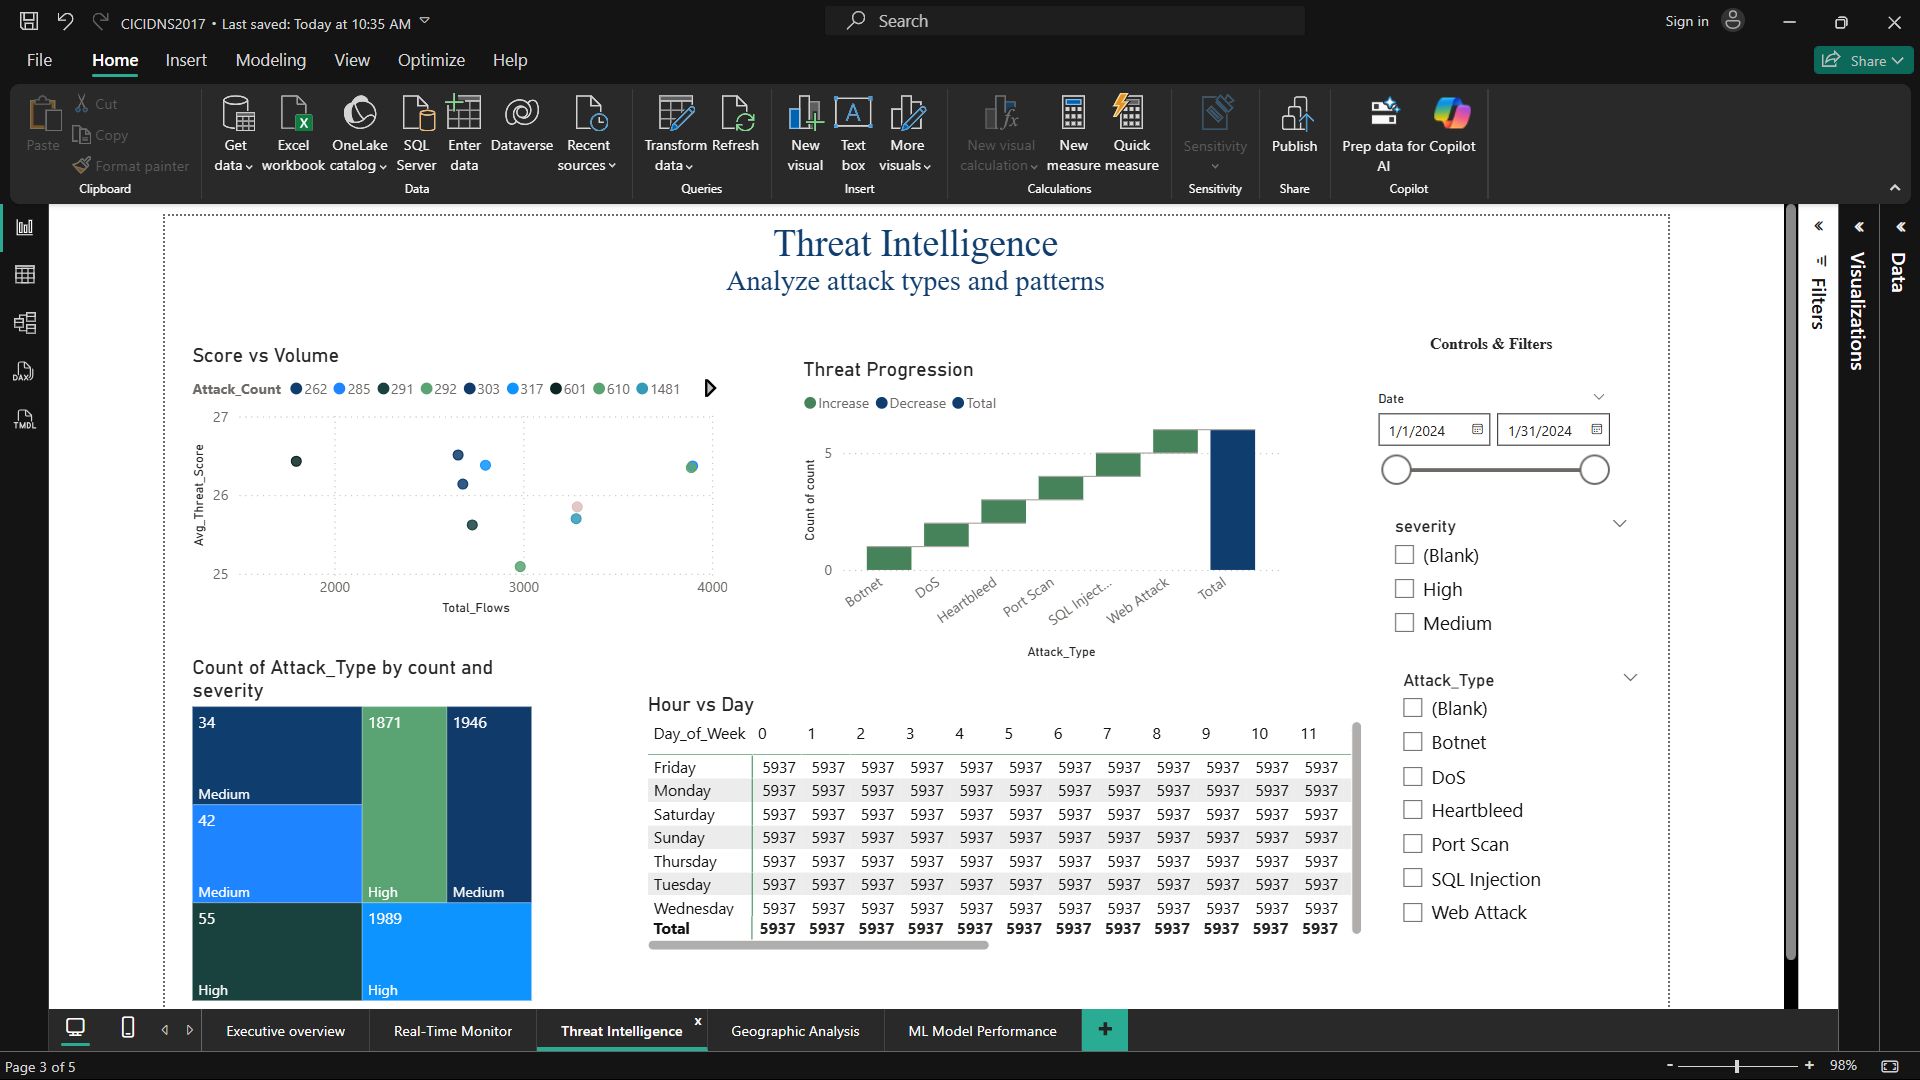

The page's visual inventory and layout, read from the dashboard file:
{"tool":"powerbi","page":{"name":"Threat Intelligence","canvas":[1280,720],"ordinal":2},"visuals":[{"type":"textbox","box":[0,413,281,281],"z":1},{"type":"textbox","box":[0,0,1278.5,91.5],"z":2},{"type":"scatterChart","title":"Score vs Volume","fields":{"X":["geographic_summary.Total_Flows"],"Y":["geographic_summary.Avg_Threat_Score"],"Series":["geographic_summary.Attack_Count"]},"box":[18.6,108.5,465.6,236.7],"z":3},{"type":"pivotTable","title":"Hour vs Day","fields":{"Rows":["network_traffic_data.Day_of_Week"],"Columns":["network_traffic_data.Hour"],"Values":["Sum(temporal_patterns.Attack_Count)"]},"box":[406.1,406.1,618.4,224.5],"z":4},{"type":"slicer","fields":{"Values":["threat_intelligence.Attack_Type"]},"box":[1041.8,381.6,225.5,232.7],"z":6},{"type":"slicer","fields":{"Values":["threat_intelligence.severity"]},"box":[1034.7,251,223.5,116.3],"z":7},{"type":"slicer","fields":{"Values":["network_traffic_data.Date"]},"box":[1020.4,143.9,218.4,99],"z":8},{"type":"waterfallChart","title":"Threat Progression","fields":{"Category":["threat_intelligence.Attack_Type"],"Y":["CountNonNull(threat_intelligence.count)"]},"box":[538.8,120.4,415.3,261.2],"z":9},{"type":"treemap","fields":{"Values":["CountNonNull(threat_intelligence.Attack_Type)"],"Group":["threat_intelligence.count"],"Details":["threat_intelligence.severity"]},"box":[18.6,374.7,299.1,299.1],"z":10},{"type":"textbox","box":[979.6,93.9,300,29.6],"z":11}]}

Visuals, with their boxes on the page's 1280x720 design canvas (x1, y1, x2, y2). These are canvas units, not pixel positions in the 1920x1080 screenshot, which may show the page scaled, cropped or inside an application window:
textbox: <bbox>0, 413, 281, 694</bbox>
textbox: <bbox>0, 0, 1278, 92</bbox>
"Score vs Volume" scatterChart: <bbox>19, 108, 484, 345</bbox>
"Hour vs Day" pivotTable: <bbox>406, 406, 1024, 631</bbox>
slicer - threat_intelligence.Attack_Type: <bbox>1042, 382, 1267, 614</bbox>
slicer - threat_intelligence.severity: <bbox>1035, 251, 1258, 367</bbox>
slicer - network_traffic_data.Date: <bbox>1020, 144, 1239, 243</bbox>
"Threat Progression" waterfallChart: <bbox>539, 120, 954, 382</bbox>
treemap - CountNonNull(threat_intelligence.Attack_Type) x threat_intelligence.count: <bbox>19, 375, 318, 674</bbox>
textbox: <bbox>980, 94, 1280, 124</bbox>
